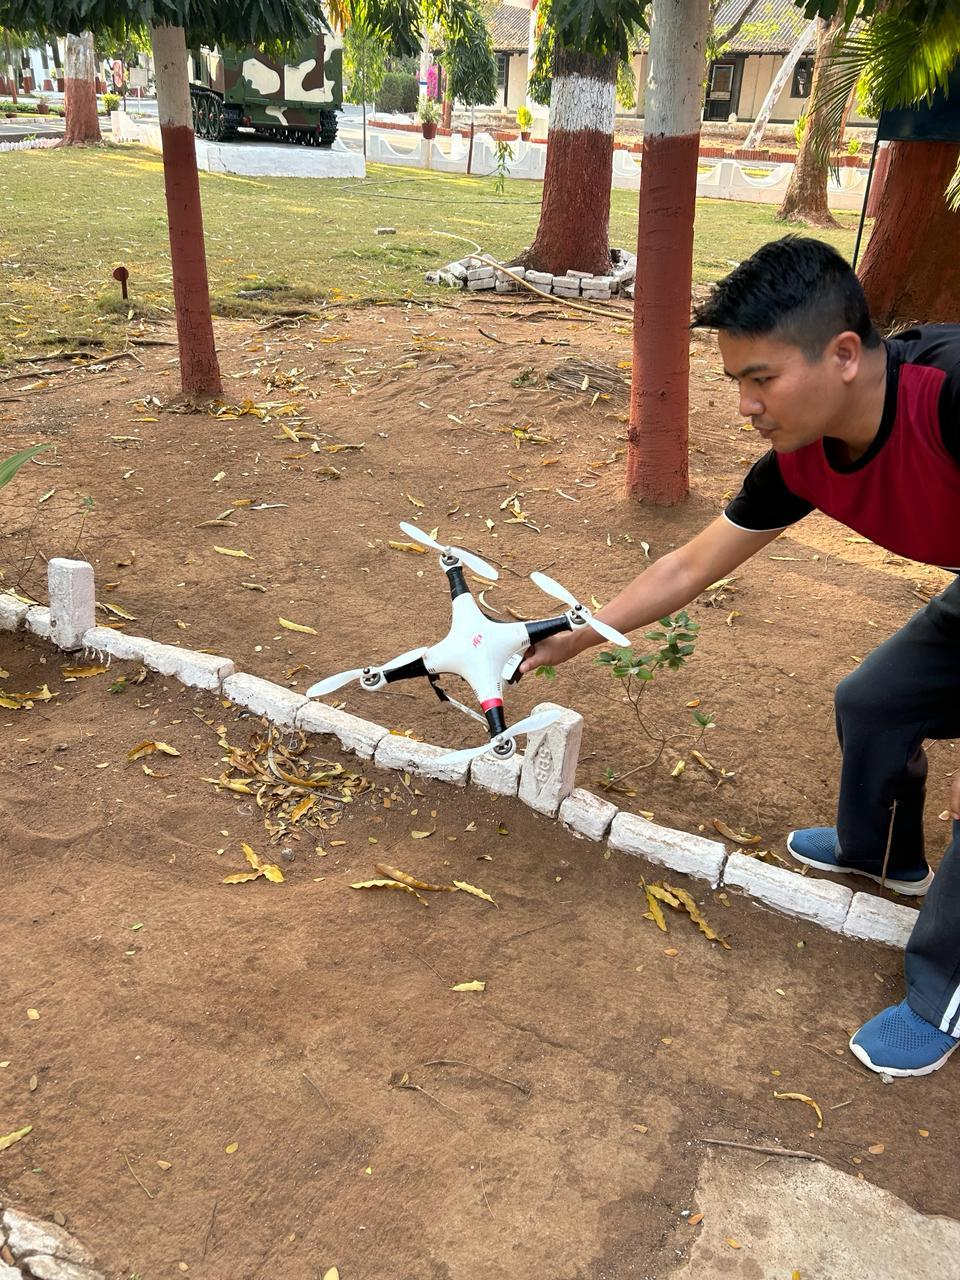drone: (290, 507, 649, 788)
